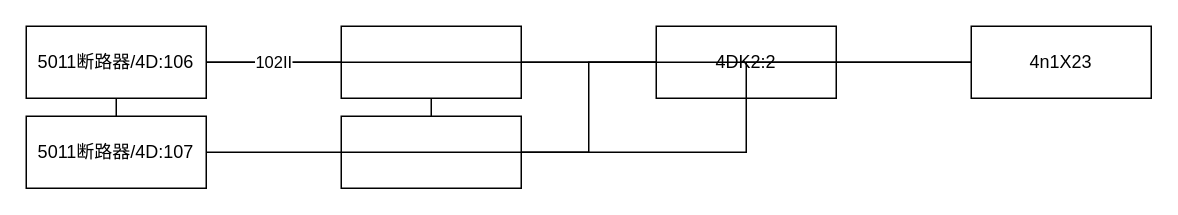
The diagram is 1178 pixels wide and 215 high, and some of its shapes have lost their labels. The shapes that lost their labels are listed below. From the top down, each one's centre as x and y in pixels, then its label:
At point (430, 61): "5021断路器/4D:106".
At point (430, 151): "5021断路器/4D:107".
